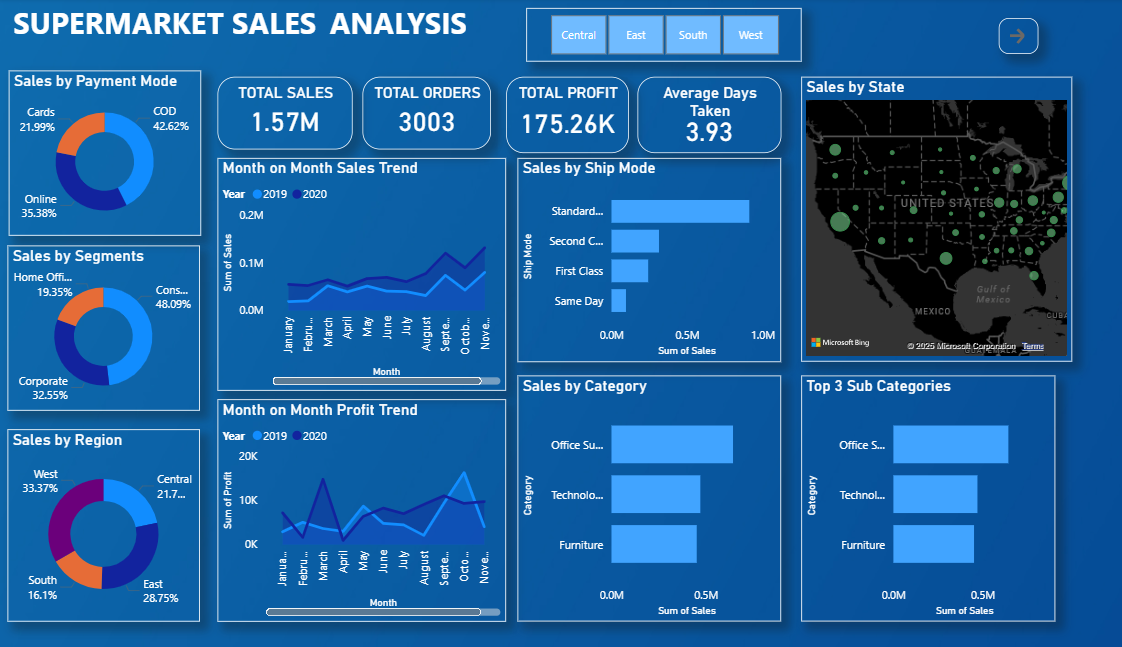

Layout of this report page (visuals, bound fields, positions):
{"tool":"powerbi","page":{"name":"Overview","canvas":[1280,720],"ordinal":0},"visuals":[{"type":"textbox","box":[10,0,526.2,70],"z":0},{"type":"card","title":"TOTAL SALES","fields":{"Values":["Sum(Sales_Dataset_proj2.Sales)"]},"box":[237,85.8,147.1,79],"z":1000},{"type":"card","title":"TOTAL ORDERS","fields":{"Values":["Count(Sales_Dataset_proj2.Order ID)"]},"box":[395,85.8,140.3,79],"z":2000},{"type":"card","title":"TOTAL PROFIT","fields":{"Values":["Sum(Sales_Dataset_proj2.Profit)"]},"box":[551.6,85.8,133.5,83.1],"z":3000},{"type":"card","title":"Average Days Taken","fields":{"Values":["Avg(Sales_Dataset_proj2.Days taken)"]},"box":[694.6,85.8,156.6,83.1],"z":4000},{"type":"donutChart","title":"Sales by Payment Mode","fields":{"Category":["Sales_Dataset_proj2.Payment Mode"],"Y":["Sum(Sales_Dataset_proj2.Sales)"]},"box":[9.5,79,209.7,179.8],"z":5000},{"type":"donutChart","title":"Segment by Payment Mode","fields":{"Category":["Sales_Dataset_proj2.Segment"],"Y":["Sum(Sales_Dataset_proj2.Sales)"]},"box":[8.2,269.7,209.7,179.8],"z":6000},{"type":"donutChart","title":"Region by Payment Mode","fields":{"Y":["Sum(Sales_Dataset_proj2.Sales)"],"Series":["Sales_Dataset_proj2.Region"]},"box":[8.2,469.9,209.7,209.7],"z":7000},{"type":"areaChart","title":"Month on Month Sales Trend","fields":{"Y":["Sum(Sales_Dataset_proj2.Sales)"],"Category":["Sales_Dataset_proj2.Order Date.Variation.Date Hierarchy.Month"],"Series":["Sales_Dataset_proj2.Order Date.Variation.Date Hierarchy.Year"]},"box":[237,174.3,314.6,253.3],"z":8000},{"type":"areaChart","title":"Month on Month Profit Trend","fields":{"Y":["Sum(Sales_Dataset_proj2.Profit)"],"Category":["Sales_Dataset_proj2.Order Date.Variation.Date Hierarchy.Month"],"Series":["Sales_Dataset_proj2.Order Date.Variation.Date Hierarchy.Year"]},"box":[237,437.2,314.6,242.4],"z":9000},{"type":"clusteredBarChart","title":"Sales by Ship Mode","fields":{"Y":["Sum(Sales_Dataset_proj2.Sales)"],"Category":["Sales_Dataset_proj2.Ship Mode"]},"box":[563.9,174.3,287.4,222],"z":10000},{"type":"clusteredBarChart","title":"Sales by Category","fields":{"Y":["Sum(Sales_Dataset_proj2.Sales)"],"Category":["Sales_Dataset_proj2.Category"]},"box":[563.9,411.3,287.4,268.3],"z":11000},{"type":"clusteredBarChart","title":"Top 3 Sub Categories","fields":{"Y":["Sum(Sales_Dataset_proj2.Sales)"],"Category":["Sales_Dataset_proj2.Category"]},"box":[873,411.3,276.5,268.3],"z":12000},{"type":"map","title":"Sales by State","fields":{"Category":["Sales_Dataset_proj2.State"],"Size":["Sum(Sales_Dataset_proj2.Sales)"]},"box":[873,85.8,295.6,310.5],"z":13000},{"type":"slicer","fields":{"Values":["Sales_Dataset_proj2.Region"]},"box":[573.4,10.9,299.6,58.6],"z":14000},{"type":"actionButton","box":[1088.2,21.8,43.6,39.5],"z":15000}]}

Visuals, with their boxes in screenshot pixels (x1, y1, x2, y2), scaled from the page's 1280x720 canvas onto the 1122x647 screenshot:
textbox: bbox=(9, 0, 470, 63)
"TOTAL SALES" card: bbox=(208, 77, 337, 148)
"TOTAL ORDERS" card: bbox=(346, 77, 469, 148)
"TOTAL PROFIT" card: bbox=(484, 77, 601, 152)
"Average Days Taken" card: bbox=(609, 77, 746, 152)
"Sales by Payment Mode" donutChart: bbox=(8, 71, 192, 233)
"Segment by Payment Mode" donutChart: bbox=(7, 242, 191, 404)
"Region by Payment Mode" donutChart: bbox=(7, 422, 191, 611)
"Month on Month Sales Trend" areaChart: bbox=(208, 157, 484, 384)
"Month on Month Profit Trend" areaChart: bbox=(208, 393, 484, 611)
"Sales by Ship Mode" clusteredBarChart: bbox=(494, 157, 746, 356)
"Sales by Category" clusteredBarChart: bbox=(494, 370, 746, 611)
"Top 3 Sub Categories" clusteredBarChart: bbox=(765, 370, 1008, 611)
"Sales by State" map: bbox=(765, 77, 1024, 356)
slicer - Sales_Dataset_proj2.Region: bbox=(503, 10, 765, 62)
actionButton: bbox=(954, 20, 992, 55)
